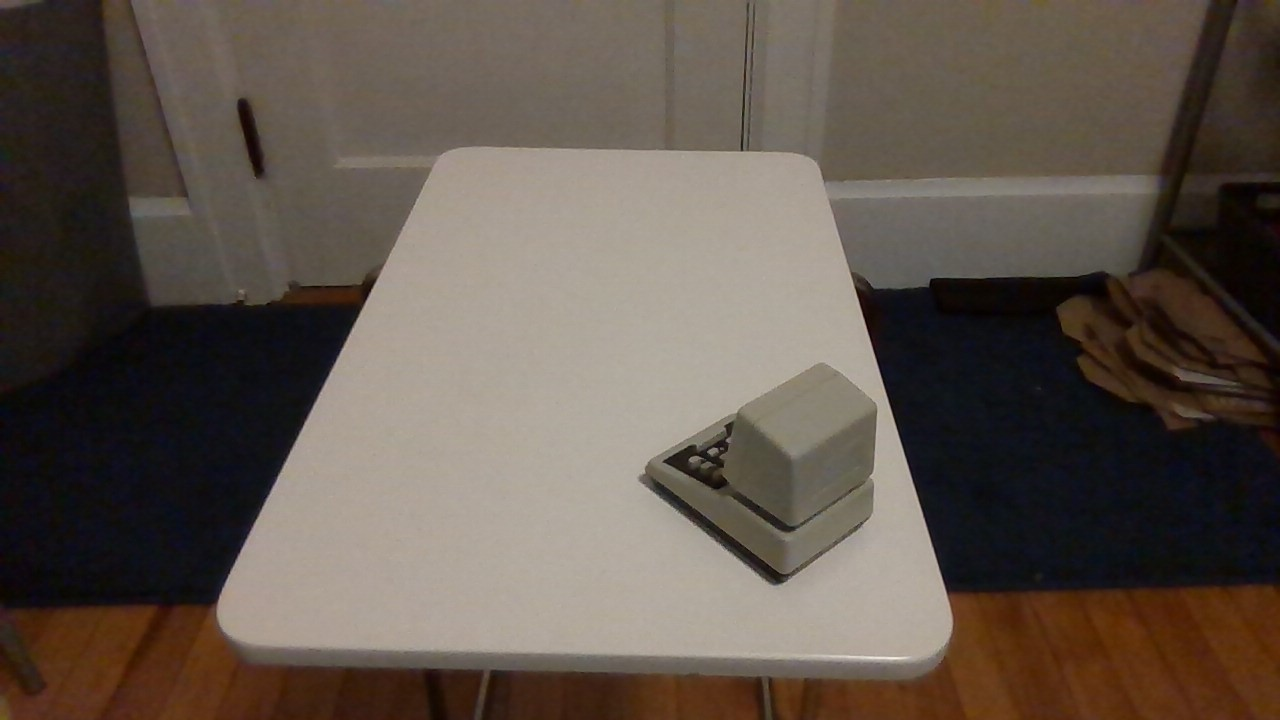Toy: (615, 322, 909, 590)
